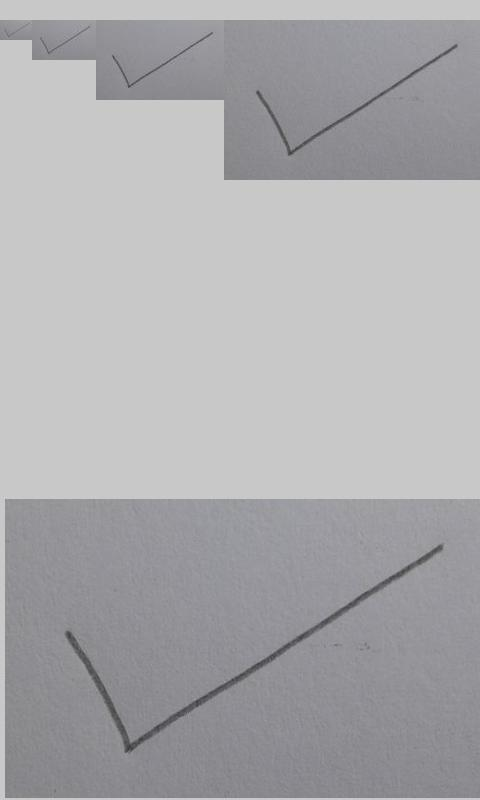check_box: (65, 546, 446, 753), (256, 45, 458, 156), (112, 32, 213, 88), (40, 26, 90, 54), (4, 23, 30, 38)
